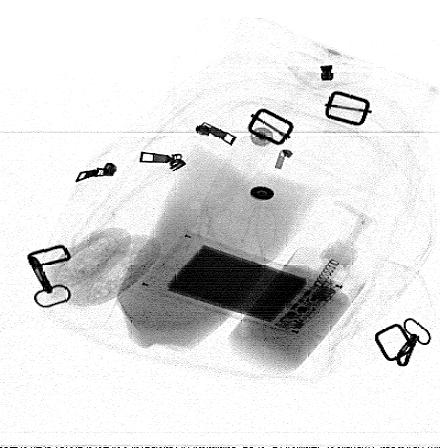Powerbank: (138, 232, 346, 337)
